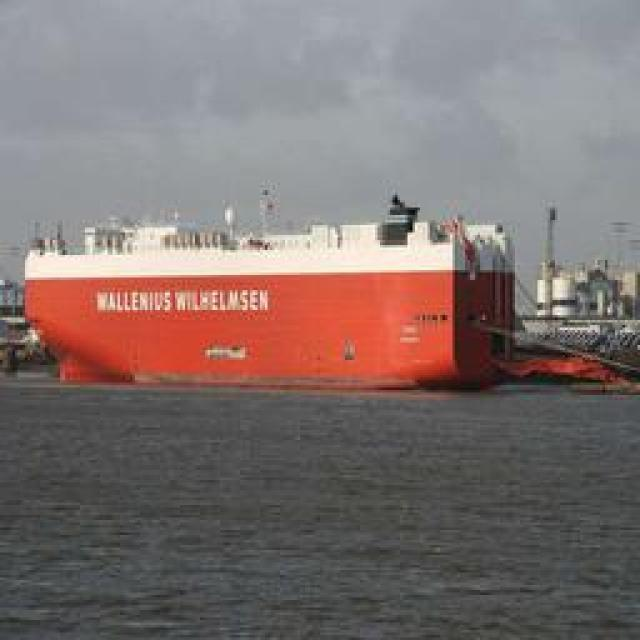Ship: (25, 200, 555, 393)
